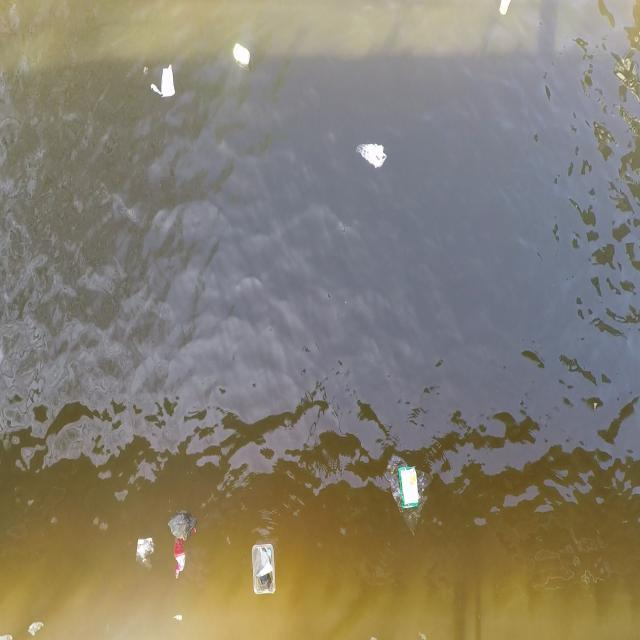Autre plastique: (248, 534, 280, 600), (394, 456, 424, 511), (150, 60, 180, 102)
Sac plastique: (352, 133, 390, 172), (166, 508, 201, 541)
